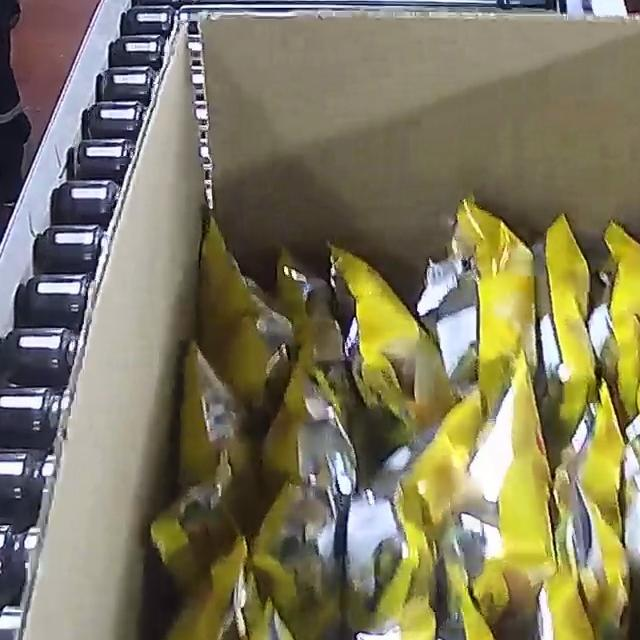salted: (120, 191, 640, 640)
